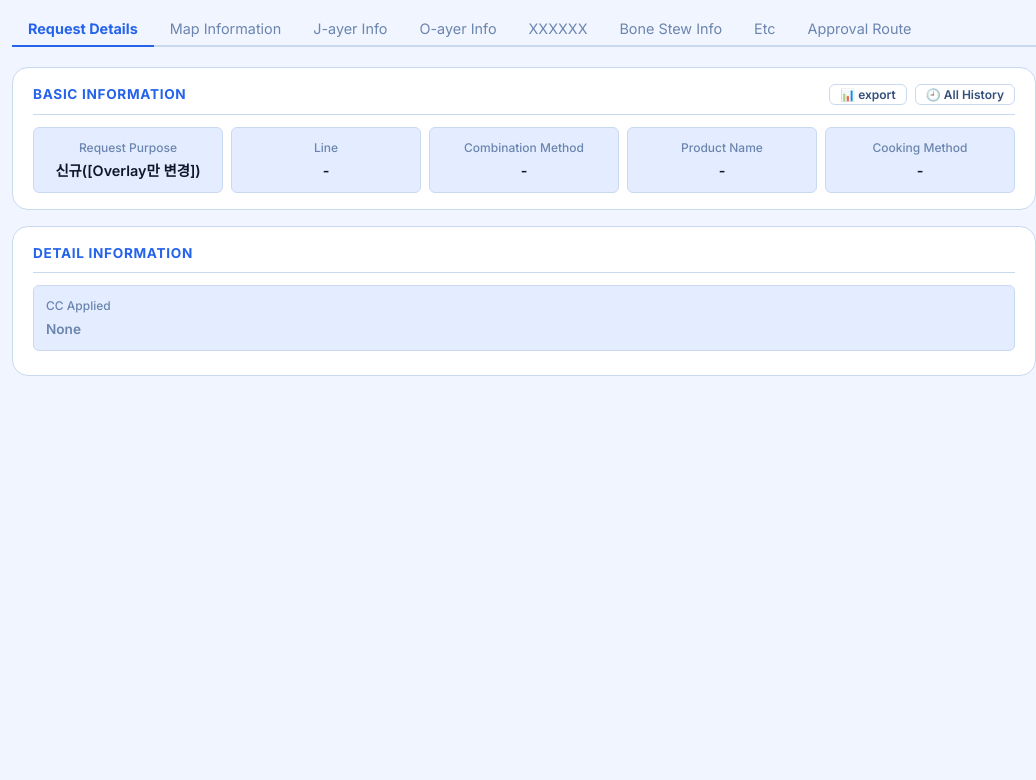
결재 경로 탭 — 'Overlay만 변경' 단독 문서의 R 행 › PL 단계(R step 없음)부터 R 행은 해당없음이다
This screenshot has width=1036, height=780.
Step 1. Click the button "Approval Route" → x=859, y=30, box [792,12,927,47]
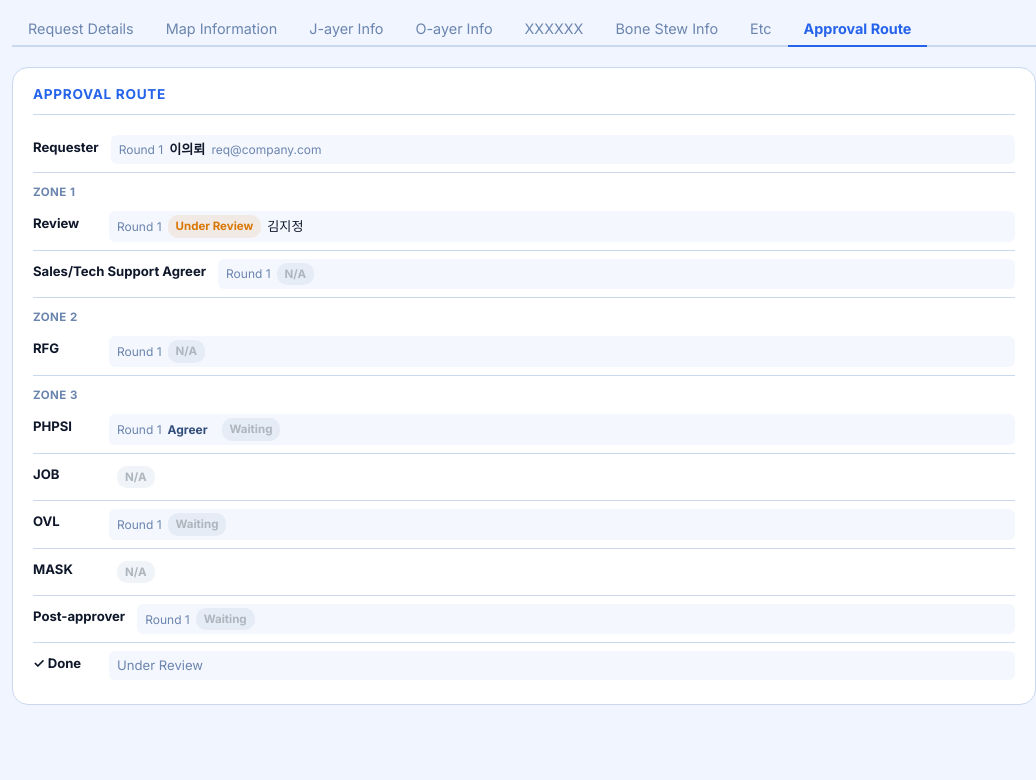
Now the text "N/A" in the row of "RFG" is shown, box [176,344,197,358]
